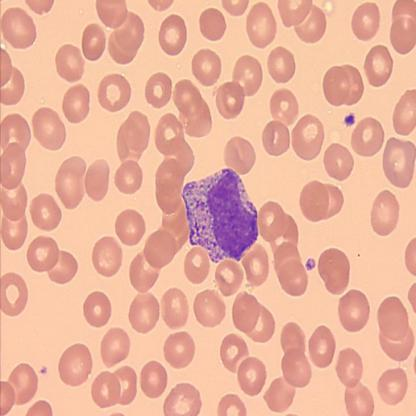Myelocyte: (183, 166, 261, 266)
